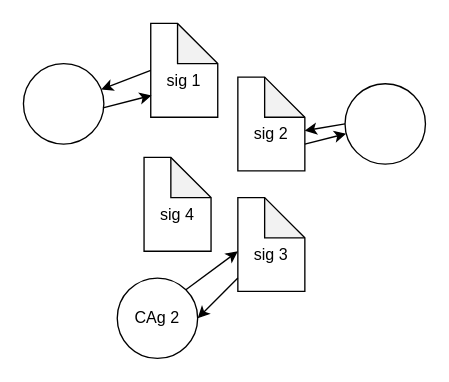
Image size: 449x382. Some labels were removed from this diagram. Each missing label, with the box of its shape:
CAg 1: (22, 62, 104, 144)
CAg 3: (344, 82, 425, 164)
